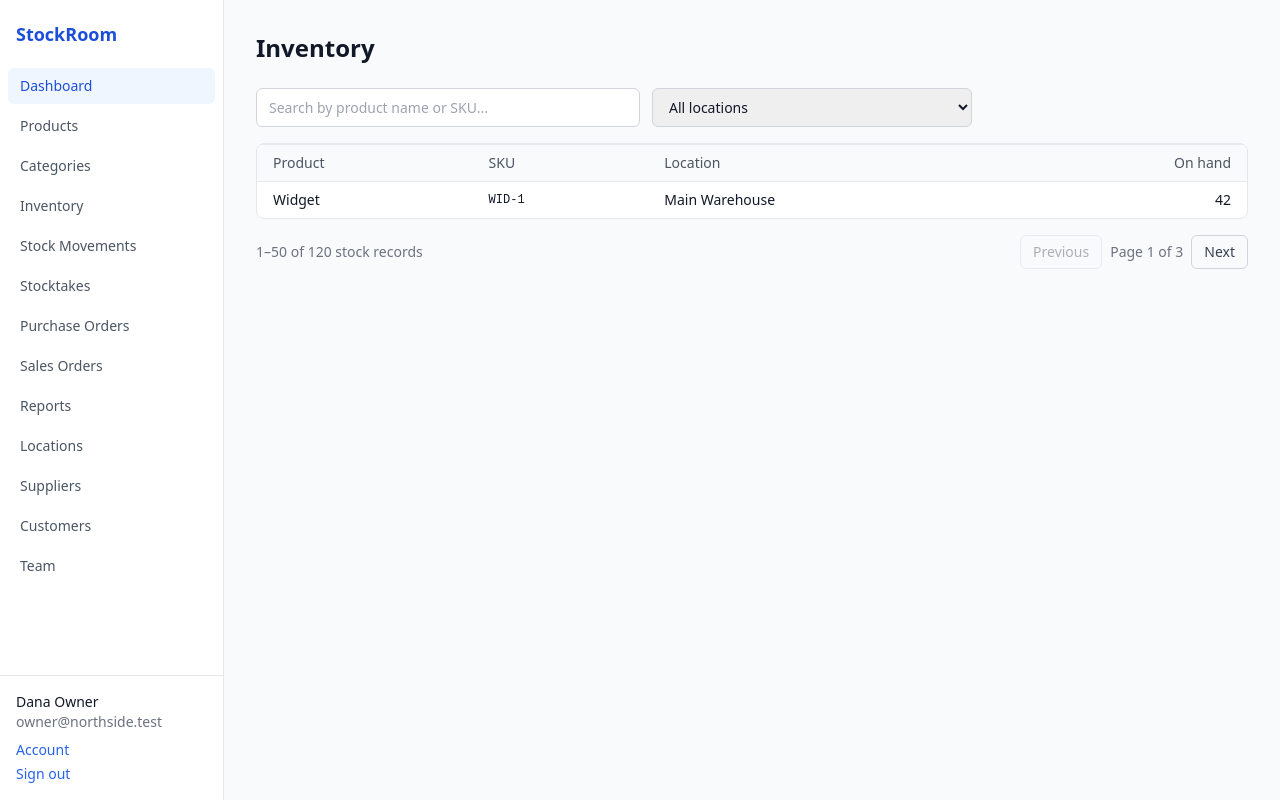
it: InventoryPage pagination › steps to the next page and asks the API for it
The image size is (1280, 800).
Expected: the text "Widget" is shown, top-left (257, 182), bottom-right (473, 218)
Click the button "Next".
click(1220, 252)  # box top-left (1191, 235), bottom-right (1248, 269)
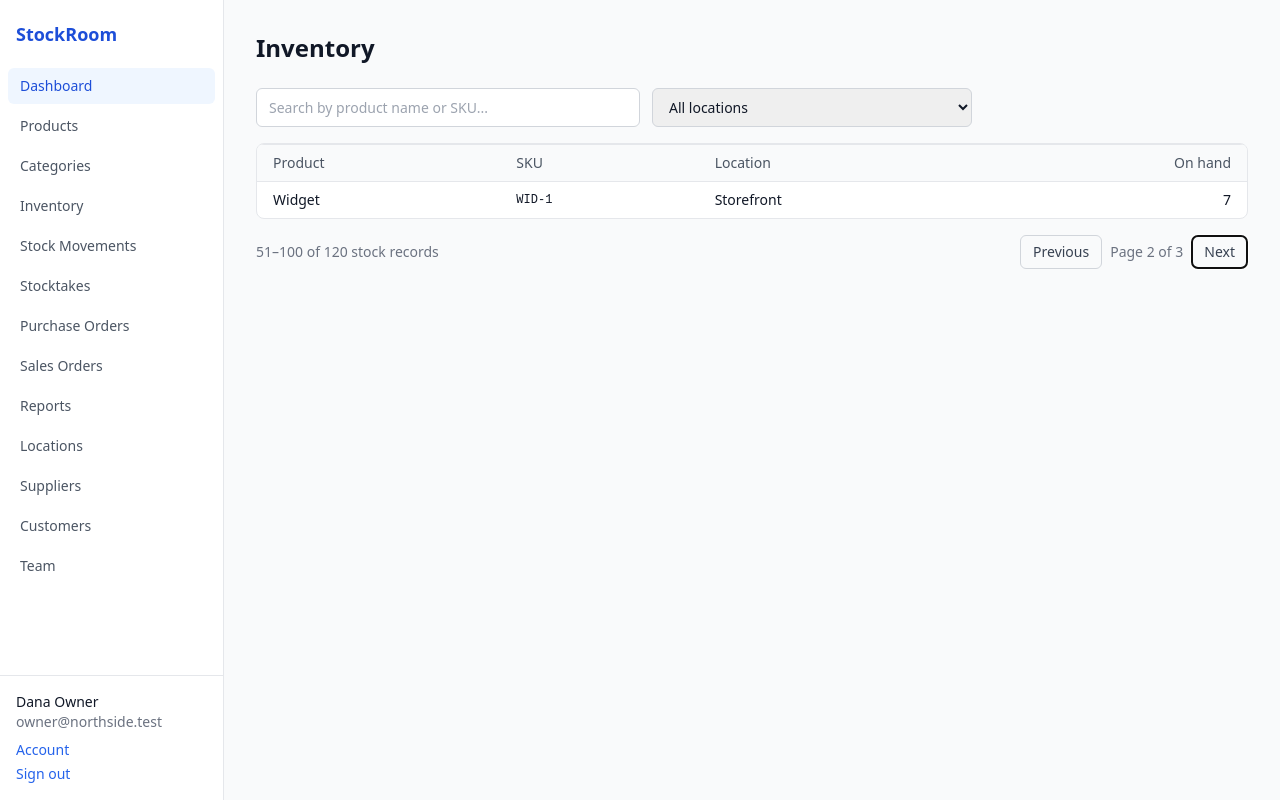
Now the text "51–100 of 120 stock records" is shown, box top-left (256, 242), bottom-right (439, 262)
